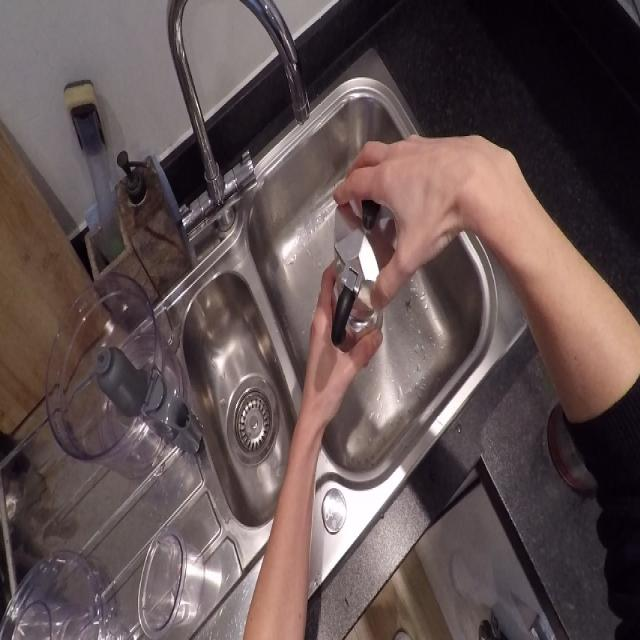left hand: (296, 264, 369, 433)
right hand: (338, 125, 512, 288)
tap: (161, 0, 309, 236)
